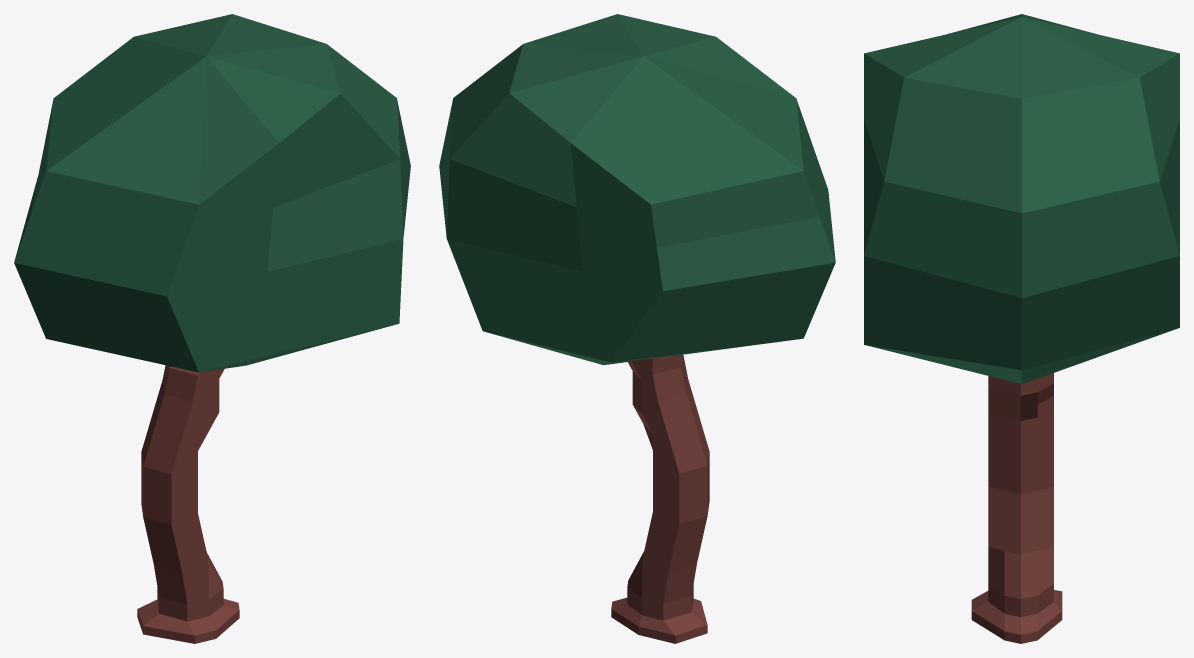
The model's file is small_tree.gltf.
3 renders of one model, left to right at view 1: azimuth 30°, elevation 25°; view 2: azimuth 150°, elevation 25°; view 3: azimuth 270°, elevation 25°, orthographic. The views are drawn at different scales.
Visible parts, largest first — view 1: small tree, cylinder; view 2: small tree, cylinder; view 3: small tree, cylinder.
Part boxes in pixels (<box>): small tree: <box>14,14,410,372</box>; cylinder: <box>137,365,239,643</box>; small tree: <box>439,14,835,365</box>; cylinder: <box>611,354,709,643</box>; small tree: <box>864,14,1179,384</box>; cylinder: <box>971,373,1062,643</box>.
Bounding box in the file's own units: 0.7734 × 1.05 × 0.491.
Materials: 2 (2 with a texture image).
